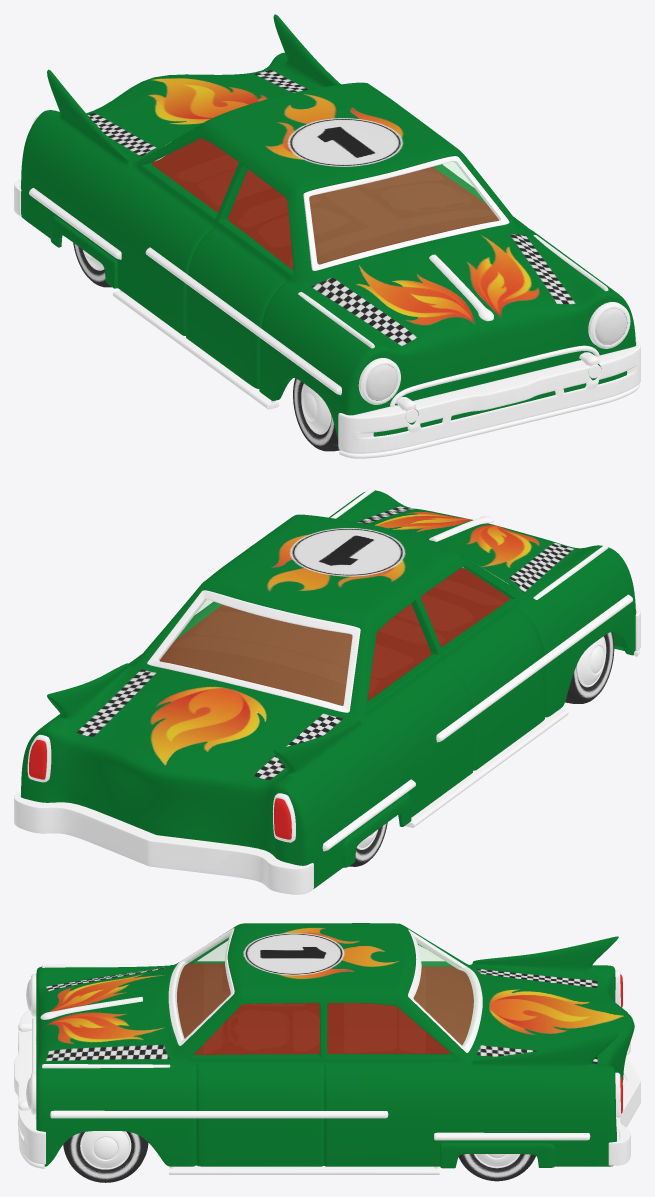
Rendered from toycar.glb.
3 renders of one model, top to bottom at view 1: azimuth 30°, elevation 25°; view 2: azimuth 150°, elevation 25°; view 3: azimuth 270°, elevation 25°, orthographic. The views are drawn at different scales.
Visible parts, largest first — view 1: Car_Body, Windshield; view 2: Car_Body, Windshield; view 3: Car_Body, Windshield.
Part boxes in pixels (x1,y1,x2,y2): Car_Body: [14, 14, 640, 458]; Windshield: [309, 162, 499, 263]; Car_Body: [14, 487, 640, 894]; Windshield: [159, 599, 351, 705]; Car_Body: [14, 923, 640, 1182]; Windshield: [175, 935, 475, 1045].
Bounding box in the file's own units: 2.1 × 1.3 × 4.3.
Materials: 2 (1 with a texture image).
